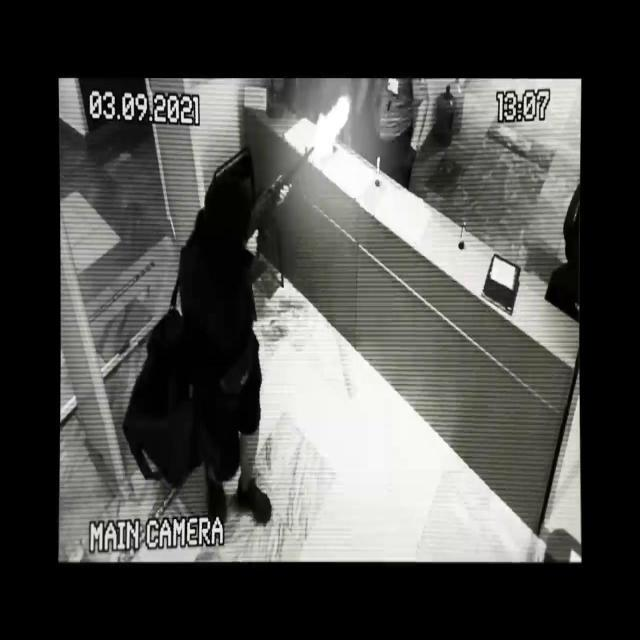pistol: (236, 144, 316, 256)
